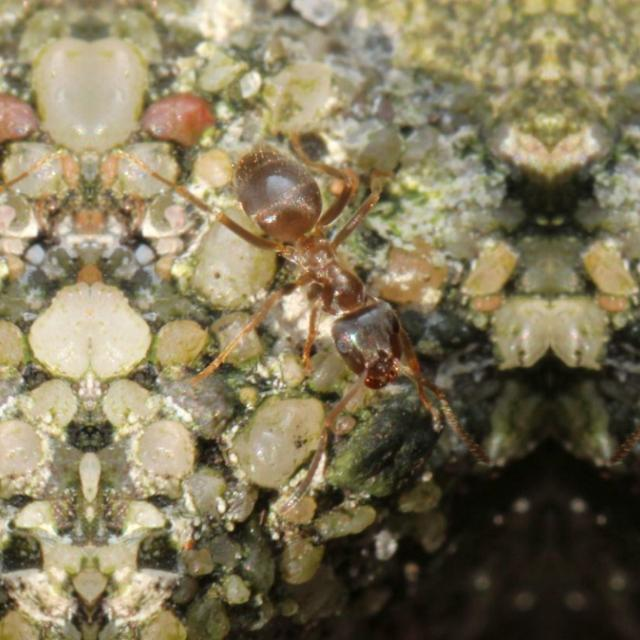Lasius: (165, 123, 458, 413)
